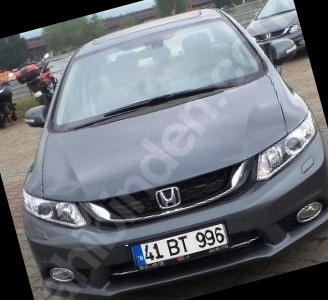plaka: (138, 225, 228, 263)
